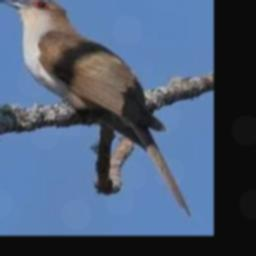Cuckoo: (0, 0, 191, 216)
